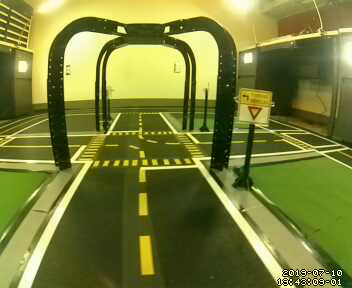Turn Yield: (239, 88, 269, 126)
